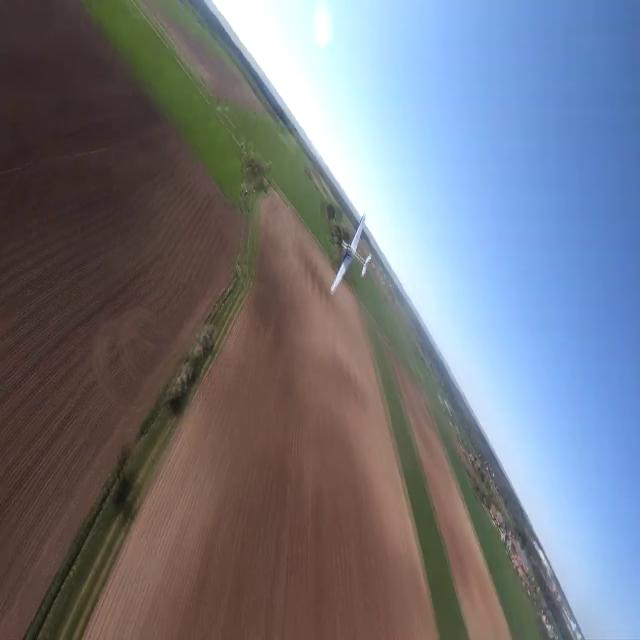iha: (329, 247, 371, 259)
